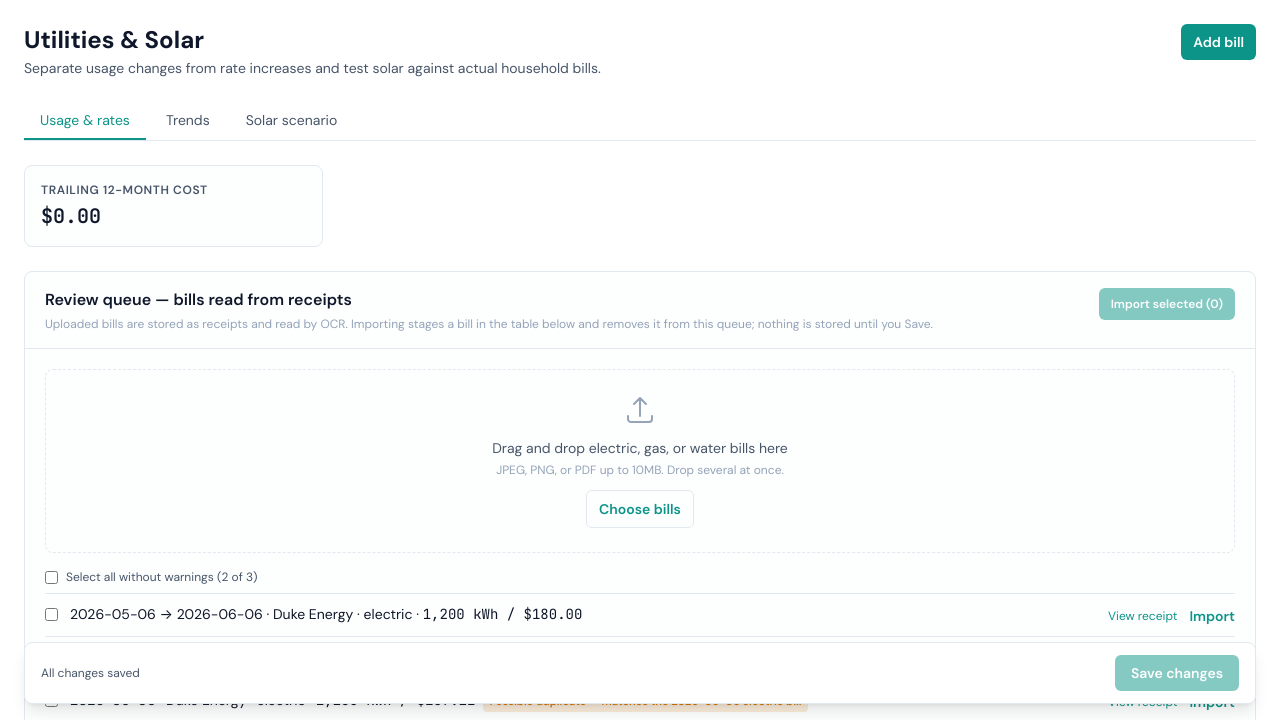
utilities bill review queue › undo returns staged bills to the queue
The image size is (1280, 720).
Click the checkbox named "Select all bills without warnings". click: (52, 577)
box: [45, 570, 58, 584]
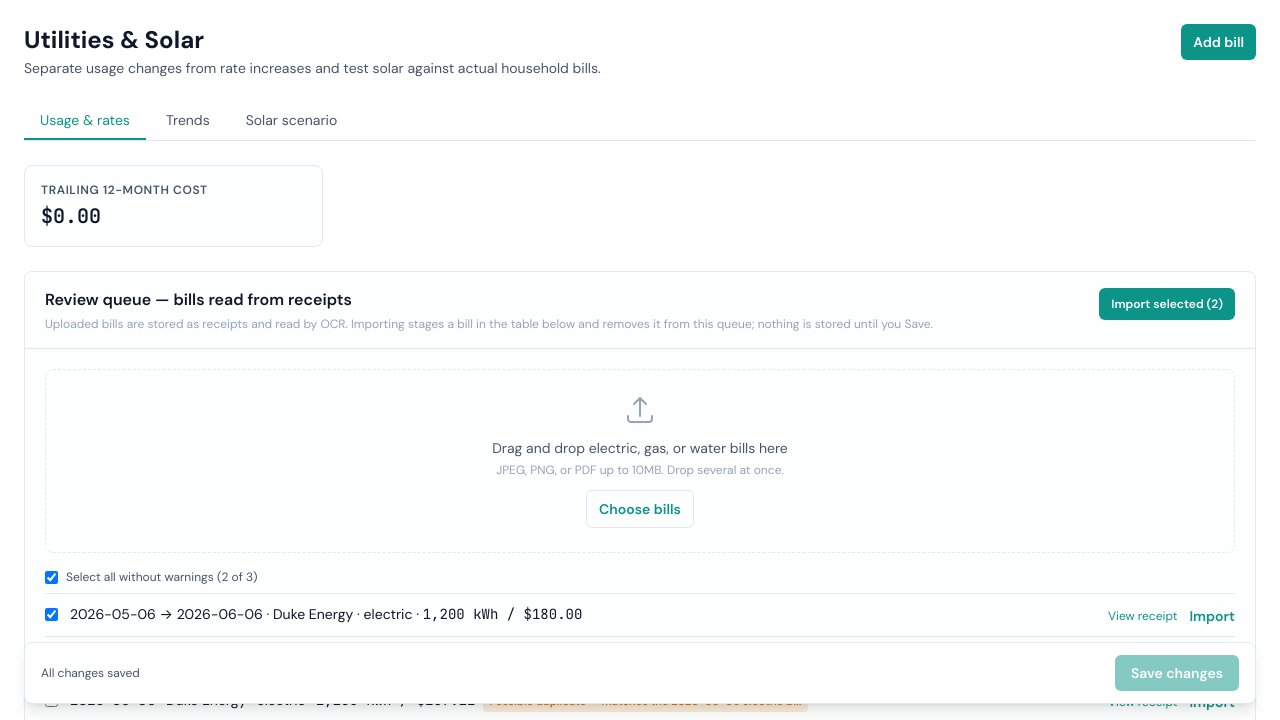
Click the button "Import selected (2)". click: (1167, 304)
box: [1099, 288, 1235, 320]
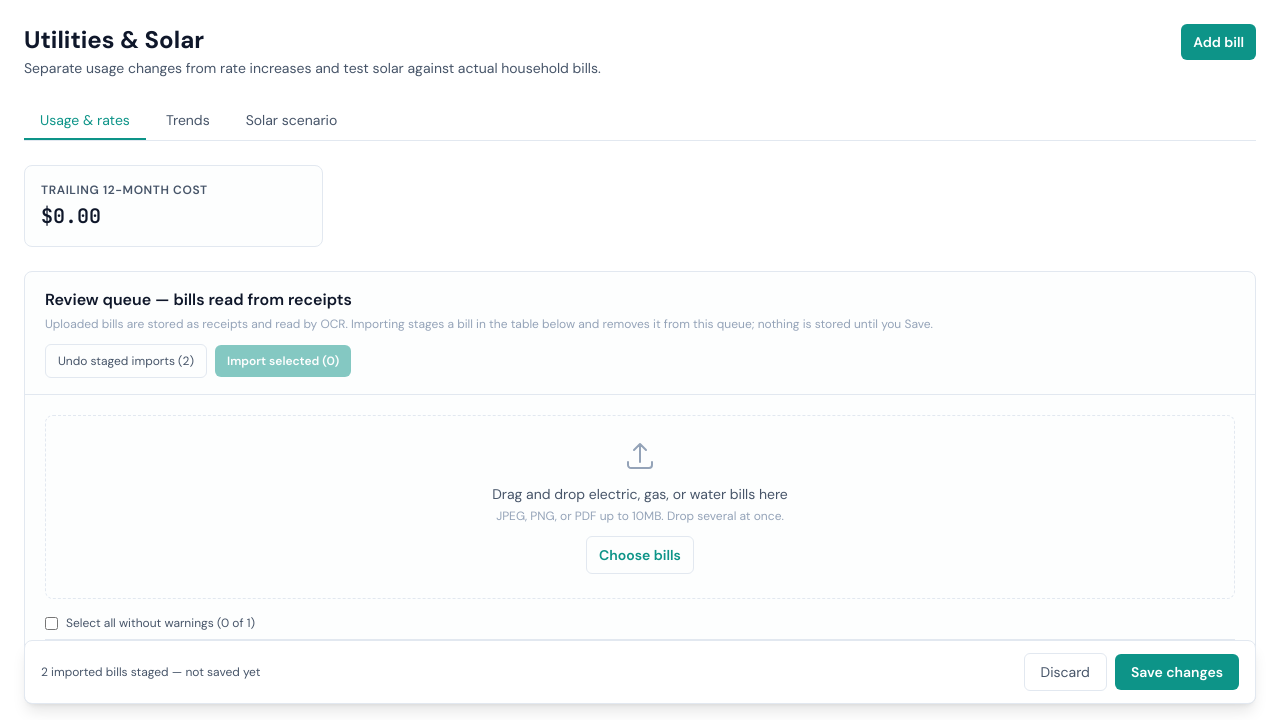
Click the button "Undo staged imports (2)". click: (126, 361)
box: [45, 344, 207, 378]
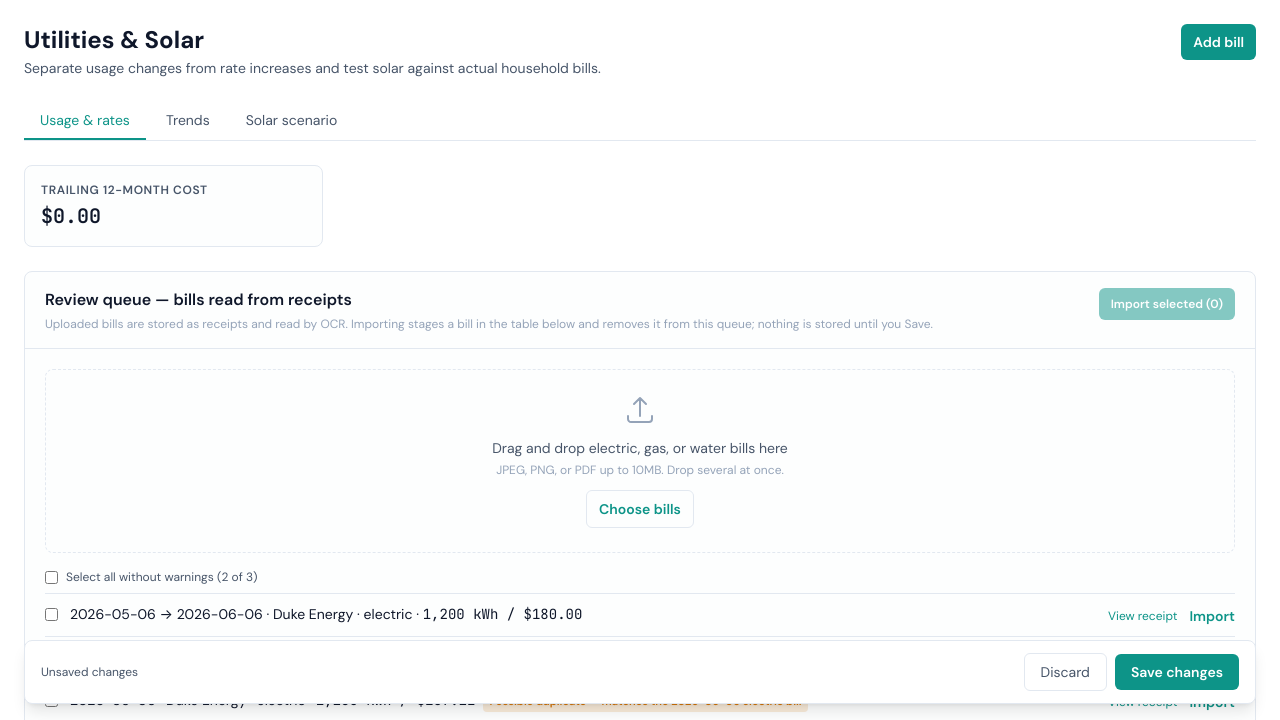
Check: the text "staged" is not shown
Check: the text "Select all without warnings (2 of 3)" is shown, box [45, 569, 1235, 594]
